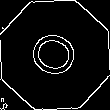O_E: (24, 26, 86, 84)
